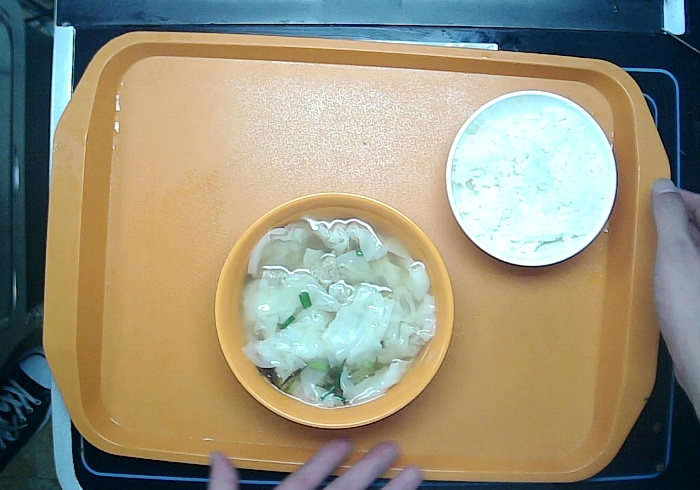NLDX-Fan_Wan: (444, 87, 620, 269)
NLDX-Hun_Tun_Wan: (211, 190, 457, 433)
